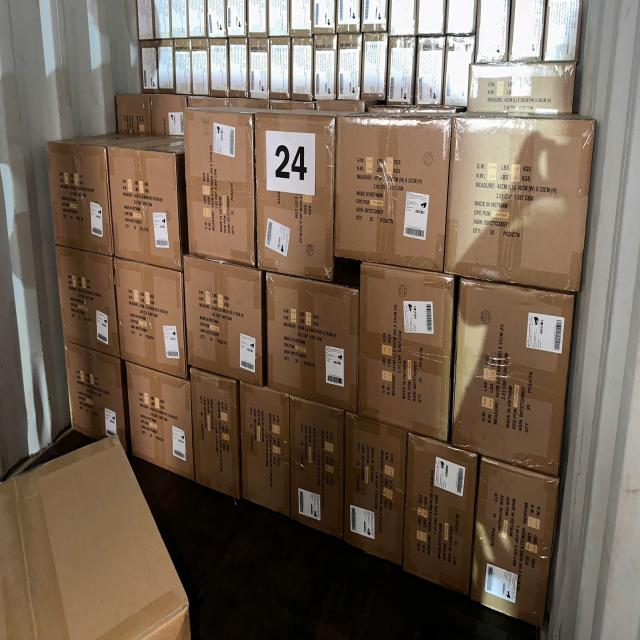Carton: (452, 118, 592, 291), (456, 278, 569, 475), (335, 114, 447, 274), (360, 262, 448, 441), (476, 457, 560, 630), (256, 111, 334, 280), (266, 271, 356, 416), (406, 433, 476, 602), (182, 108, 256, 267), (183, 252, 263, 387), (105, 144, 183, 272), (344, 412, 404, 572), (112, 257, 188, 380), (124, 361, 194, 486), (288, 395, 346, 542), (46, 140, 114, 257), (188, 366, 242, 502), (63, 341, 127, 455), (239, 382, 291, 521), (56, 247, 120, 358)
